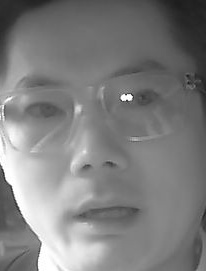eye: (24, 99, 64, 124)
glass: (98, 66, 186, 141), (2, 88, 79, 153)
mouth: (69, 191, 146, 236)
